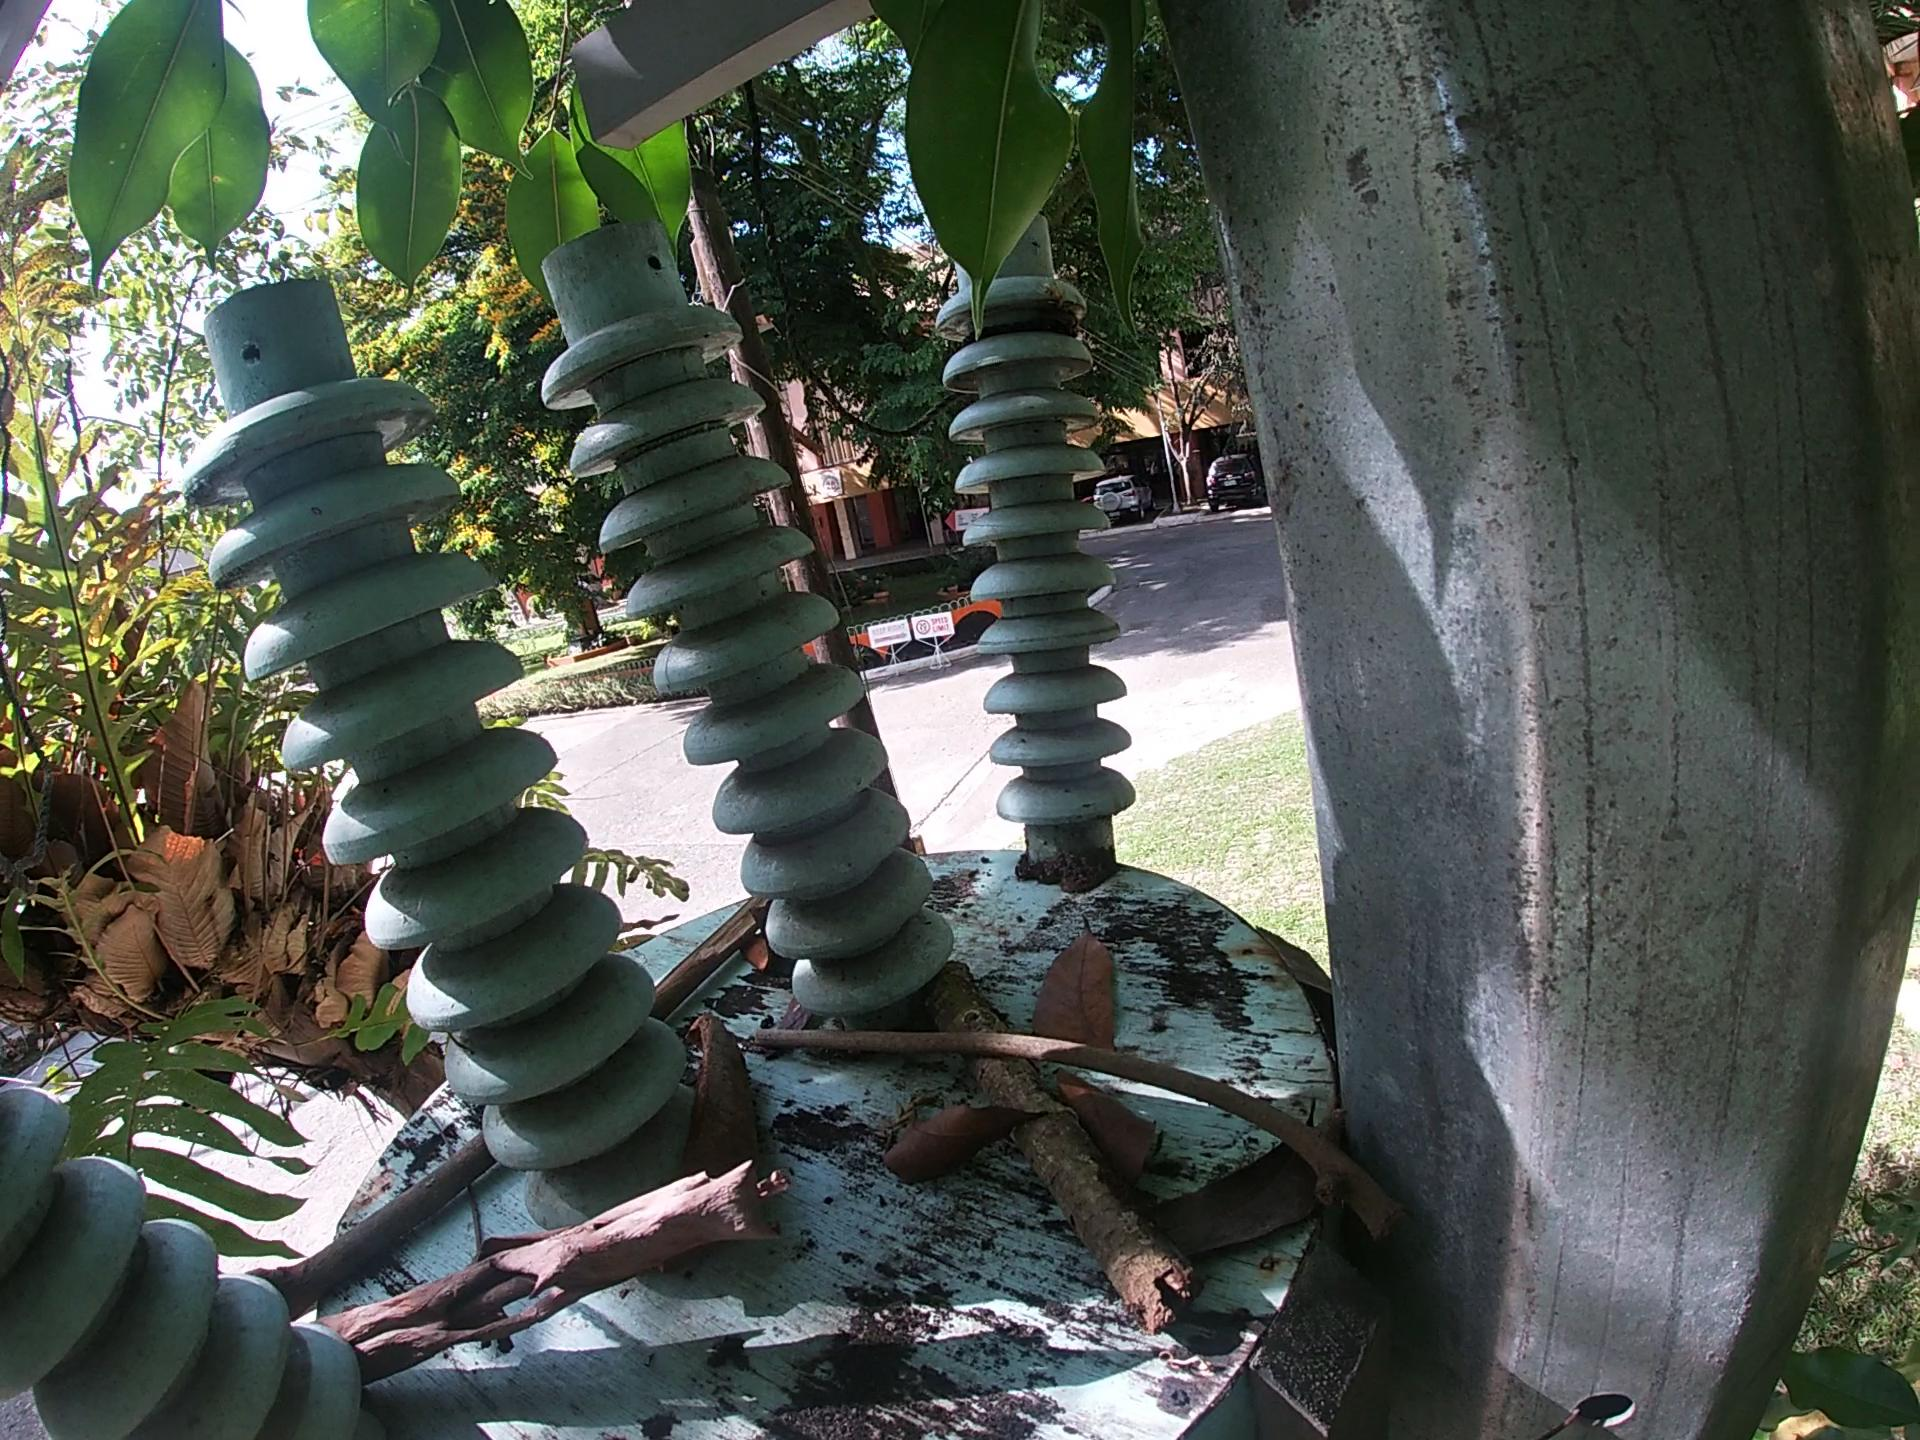leaf: (1143, 1094, 1329, 1268), (875, 1094, 1057, 1195), (1048, 1068, 1166, 1196), (1027, 911, 1131, 1050)
mahogany fruit: (674, 1004, 771, 1190), (736, 898, 783, 988)
tree branch: (748, 1018, 1417, 1258), (305, 1153, 801, 1383), (918, 957, 1194, 1339), (240, 1131, 506, 1319), (649, 892, 776, 1026)
